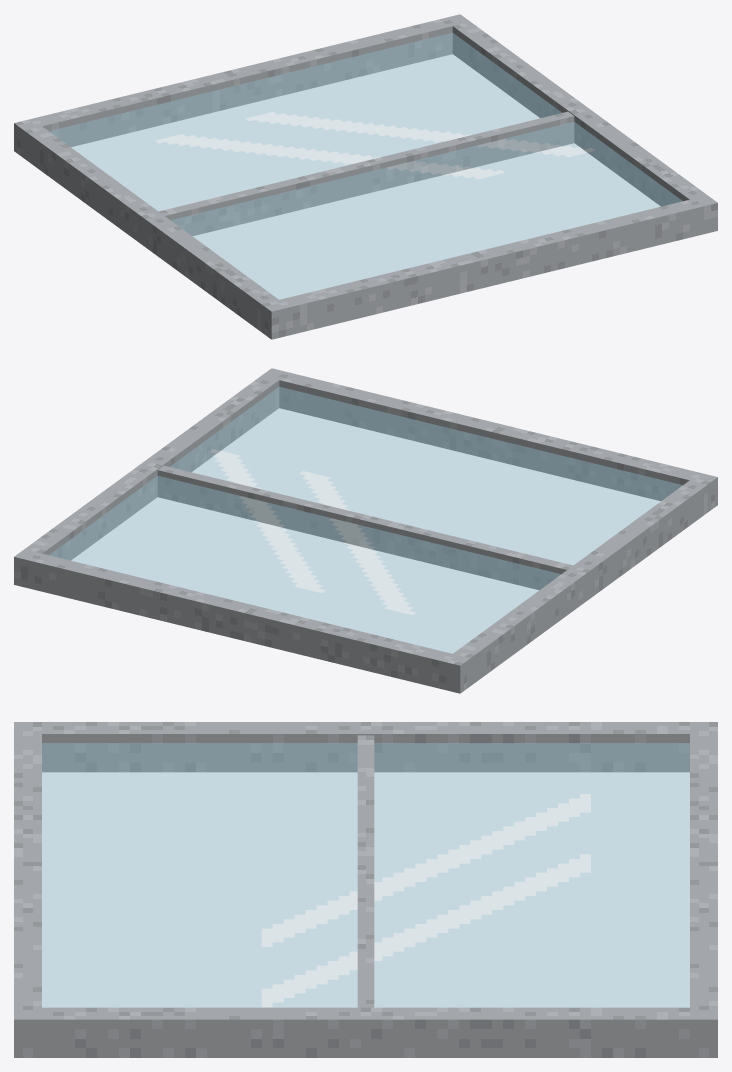
File: t_glass_roof.glb
3 renders of one model, top to bottom at view 1: azimuth 30°, elevation 25°; view 2: azimuth 150°, elevation 25°; view 3: azimuth 270°, elevation 25°, orthographic. The views are drawn at different scales.
Visible parts, largest first — view 1: block_pane, block_frame s, block_frame n, block_glazing bar, block_frame w, block_frame e; view 2: block_pane, block_frame n, block_frame s, block_glazing bar, block_frame w, block_frame e; view 3: block_pane, block_frame e, block_frame w, block_frame n, block_frame s, block_glazing bar.
Boxes of the visible parts, x1,y1,x2,y2 form: block_pane: (49, 32, 682, 299); block_frame s: (261, 195, 717, 339); block_frame n: (14, 14, 470, 158); block_glazing bar: (159, 111, 574, 235); block_frame w: (24, 126, 278, 331); block_frame e: (452, 22, 707, 206); block_pane: (49, 386, 682, 653); block_frame n: (14, 549, 470, 693); block_frame s: (261, 368, 717, 512); block_glazing bar: (157, 465, 572, 589); block_frame w: (453, 480, 707, 685); block_frame e: (24, 376, 279, 560); block_pane: (42, 743, 689, 1007); block_frame e: (42, 1007, 689, 1057); block_frame w: (42, 722, 689, 772); block_frame n: (690, 722, 717, 1057); block_frame s: (14, 722, 41, 1057); block_glazing bar: (357, 735, 374, 1007).
Size of the model in its own units: 1 by 0.06 by 1.
Materials: 2 (2 with a texture image).
